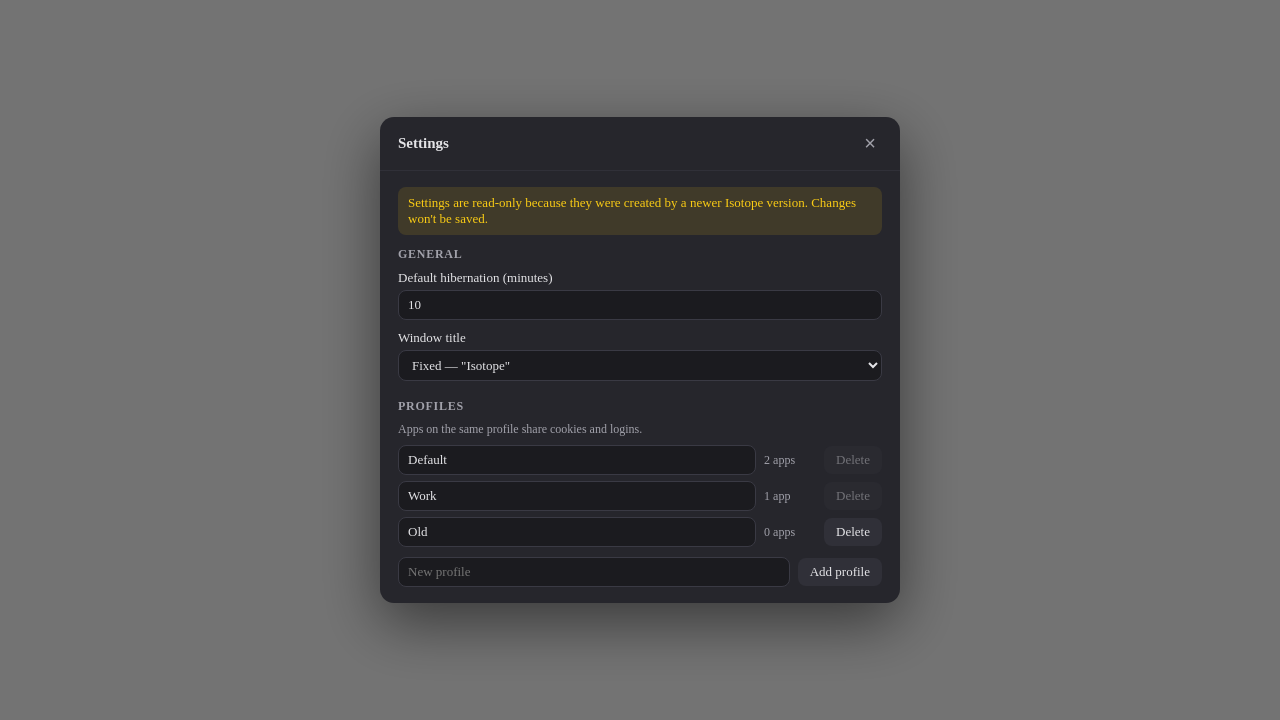
Test: failures and read-only mode are shown
The width and height of the screenshot is (1280, 720).
Expected: the message shows "read-only", [408,195,856,226]
Step 1. Type "X" into the field named "New profile name" → x=594, y=572, box [398,557,790,587]
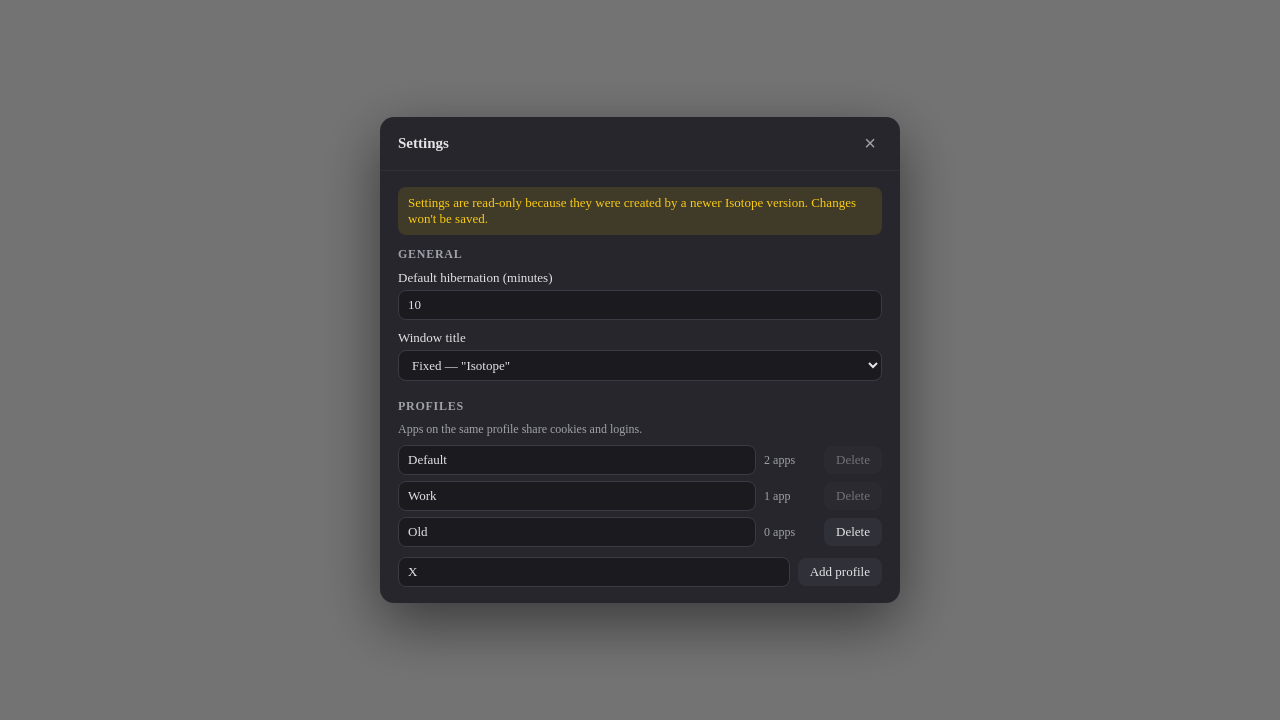
Step 2. Click the button "Add profile" → x=840, y=572, box [798,558,882,586]
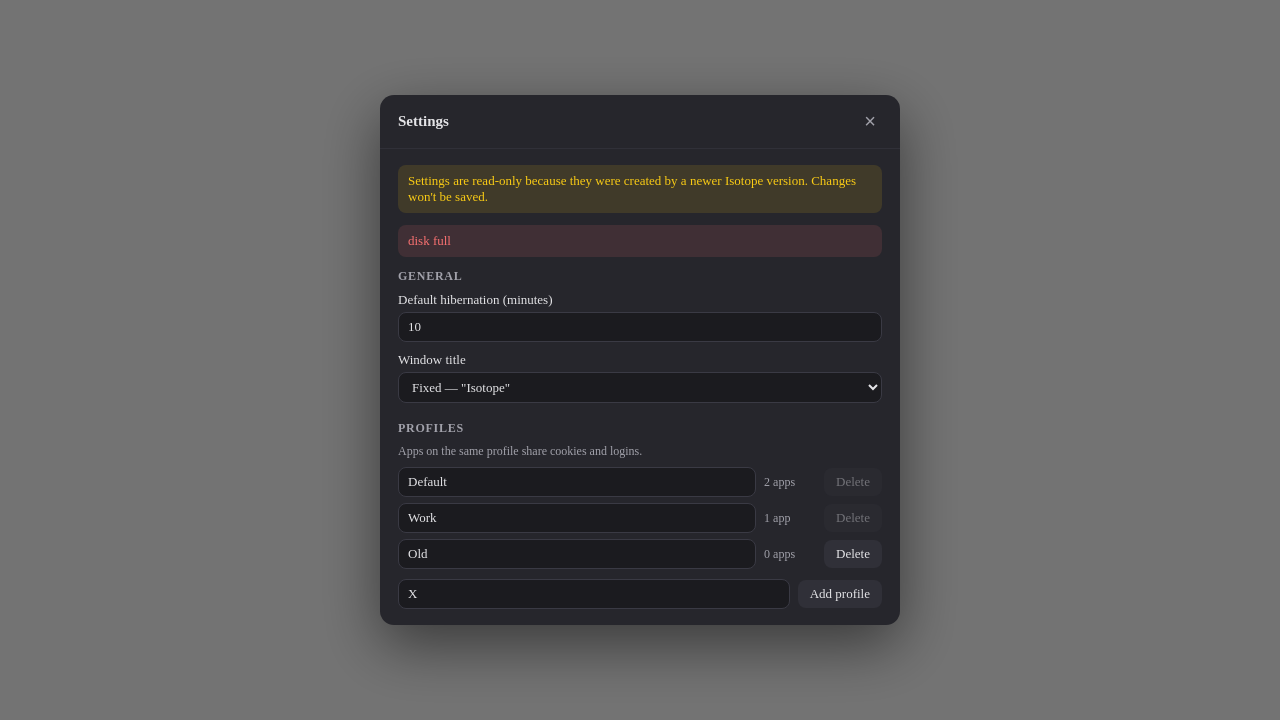
Result: the message "disk full" is shown at [398,225,882,257]
